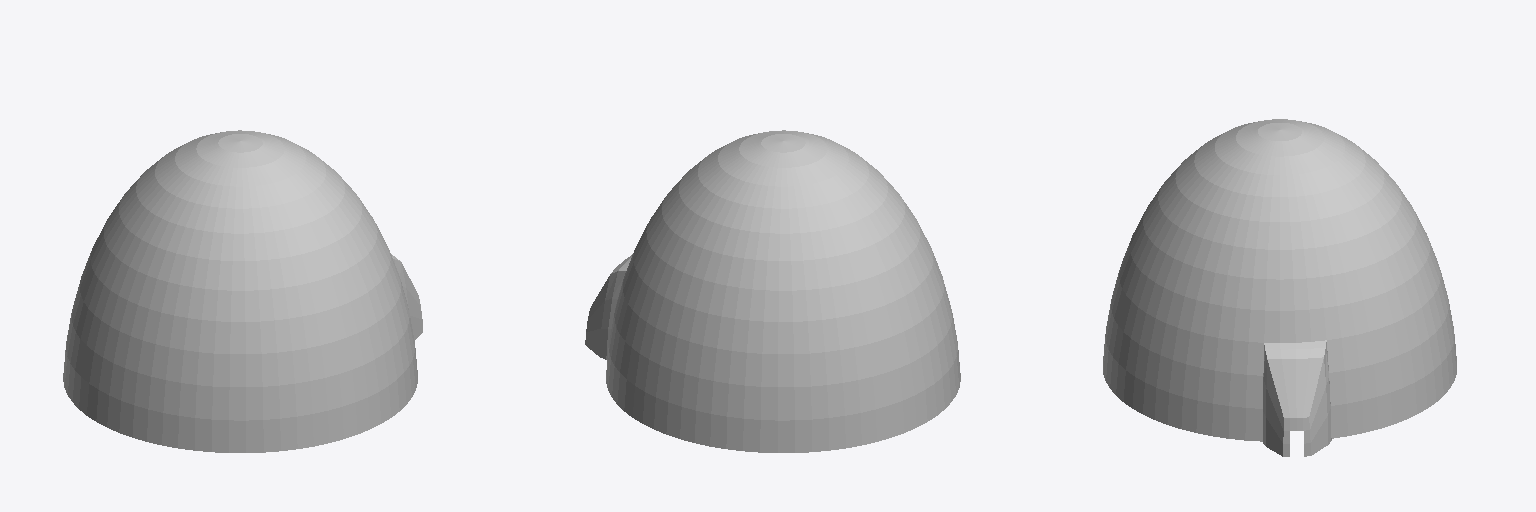
Rendered from four.obj.
3 renders of one model, left to right at view 1: azimuth 30°, elevation 25°; view 2: azimuth 150°, elevation 25°; view 3: azimuth 270°, elevation 25°, orthographic.
Parts seen in each view (by area): view 1: Sphere; view 2: Sphere; view 3: Sphere.
Boxes of the visible parts, box(x1,y1,x2,y2) form: Sphere: box(63, 130, 422, 452); Sphere: box(585, 130, 960, 452); Sphere: box(1103, 119, 1456, 456).
Bounding box in the file's own units: 1.4 × 0.9372 × 1.27.